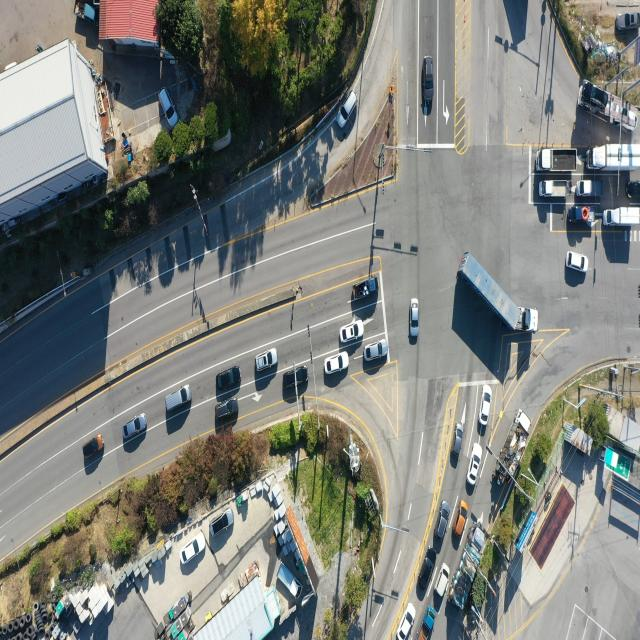car: (180, 533, 205, 569), (422, 51, 436, 113), (338, 91, 359, 130), (160, 87, 178, 128), (166, 384, 192, 412), (398, 602, 417, 640), (282, 364, 309, 390), (470, 441, 486, 484), (210, 510, 233, 539), (419, 554, 436, 592), (449, 422, 463, 468), (124, 414, 148, 440), (340, 319, 365, 343), (254, 347, 278, 372), (215, 366, 240, 390), (362, 340, 388, 363), (324, 352, 348, 376), (438, 500, 452, 540), (214, 398, 239, 420), (481, 384, 494, 426), (455, 499, 469, 538), (85, 435, 106, 460), (437, 564, 452, 598), (566, 251, 587, 272), (411, 298, 421, 342), (616, 11, 639, 29), (625, 180, 640, 198)
large_truck: (461, 248, 533, 334)
medium_truck: (448, 518, 488, 614), (576, 81, 636, 132), (497, 409, 535, 487), (586, 146, 640, 173), (537, 149, 577, 175), (606, 206, 640, 228)
small_truck: (274, 563, 304, 600), (352, 274, 377, 302), (418, 604, 436, 640), (74, 0, 97, 25), (577, 178, 605, 198), (539, 181, 568, 198), (569, 205, 593, 225)
